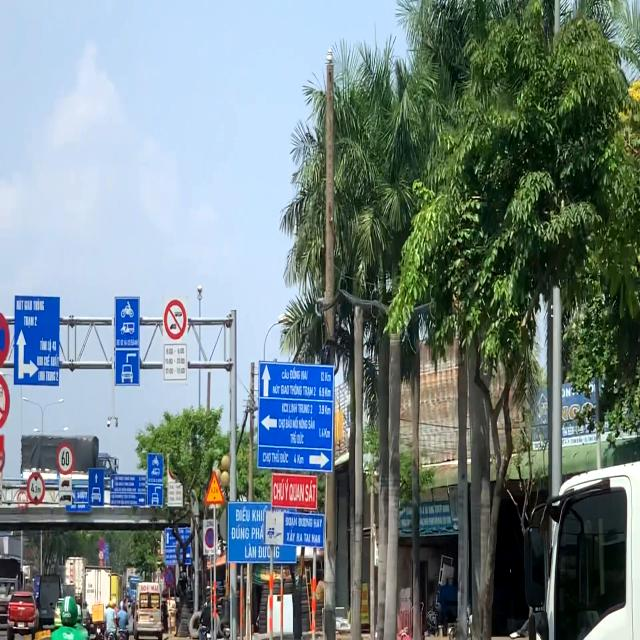P.127: (55, 443, 75, 474)
P.130: (164, 567, 175, 588)
S.509a: (204, 471, 225, 505)
